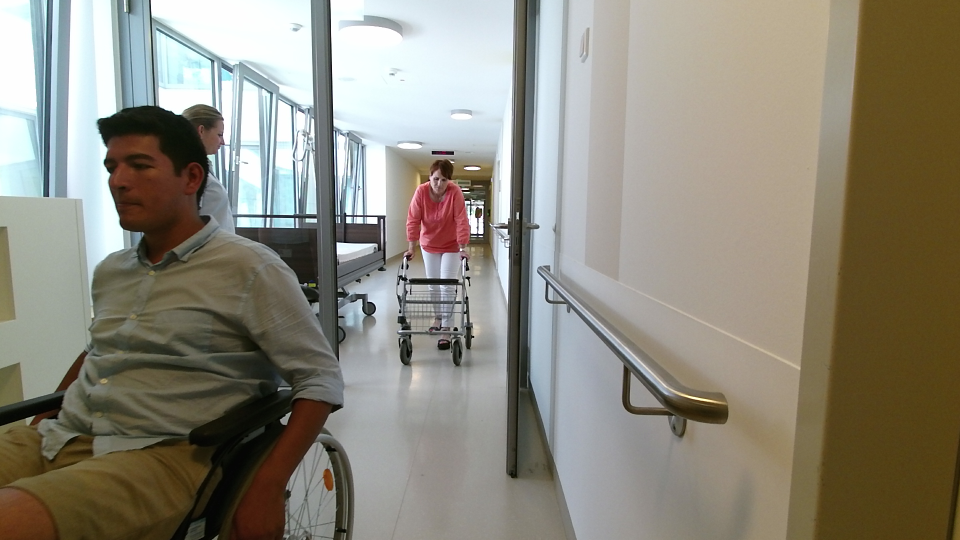wheelchair: (1, 140, 374, 540)
